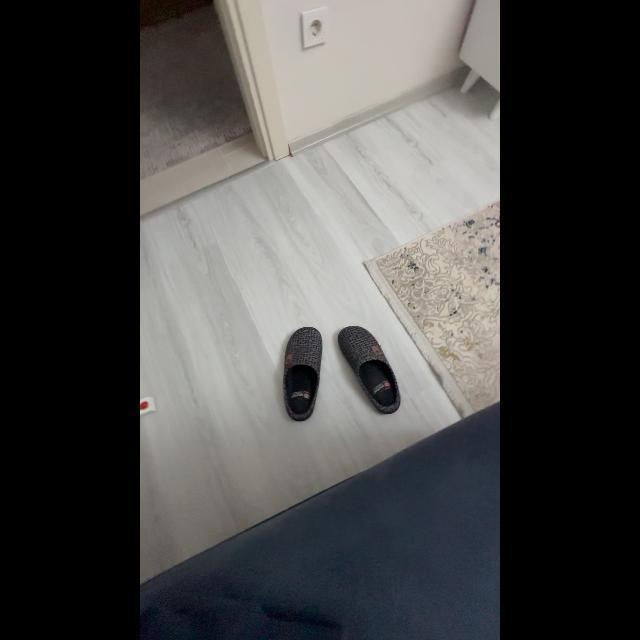slipper: (333, 318, 407, 419), (278, 320, 328, 430)
